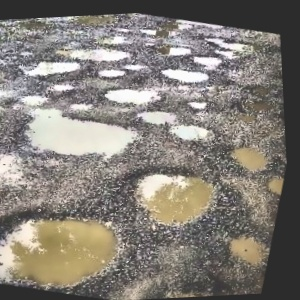pothole: (0, 192, 132, 300), (10, 99, 147, 175), (123, 158, 223, 235), (140, 265, 252, 300), (53, 33, 136, 72), (214, 220, 275, 271), (18, 50, 85, 84), (100, 77, 165, 110), (198, 30, 260, 64), (222, 137, 275, 176), (164, 117, 218, 148), (157, 60, 210, 87), (133, 103, 180, 129), (153, 39, 198, 61), (191, 51, 225, 69), (96, 64, 125, 81), (264, 172, 284, 193), (186, 97, 209, 112)
